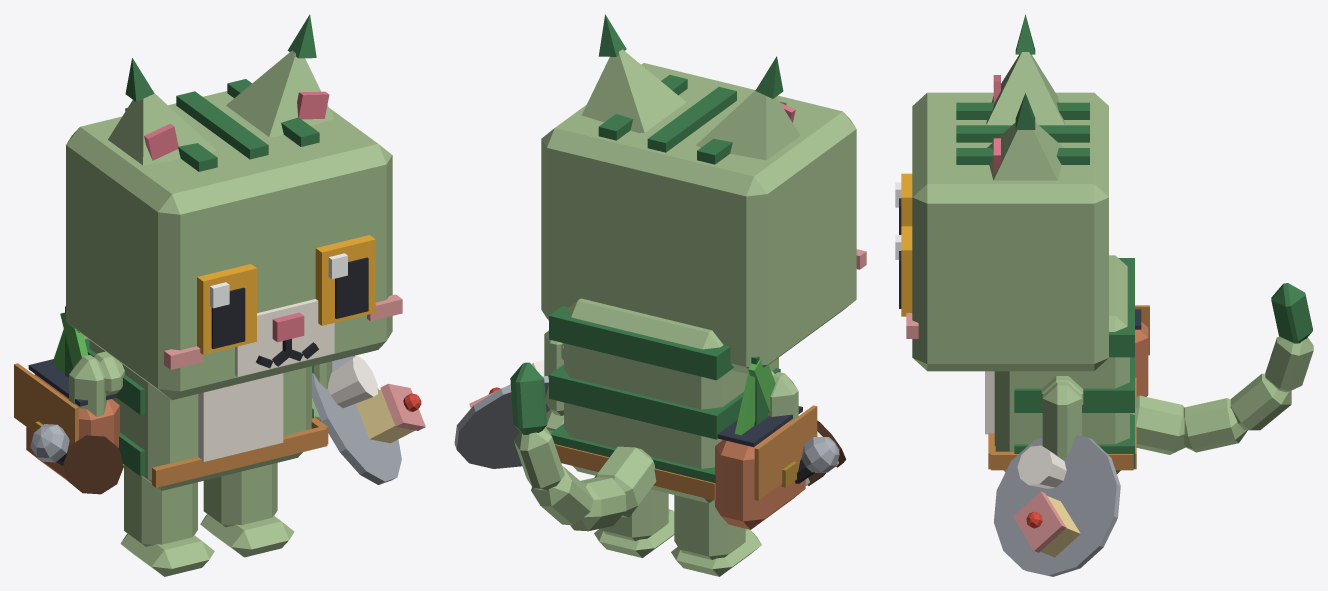
The model's file is CatCafe_Cat_Fern_Work.fbx.
3 renders of one model, left to right at view 1: azimuth 30°, elevation 25°; view 2: azimuth 150°, elevation 25°; view 3: azimuth 270°, elevation 25°, orthographic. The views are drawn at different scales.
Visible parts, largest first — view 1: CatCafe_Cat_Fern_Work_Head, CatCafe_Cat_Fern_Work_Body, CatCafe_Cat_Fern_Work_Held_Waiter, CatCafe_Cat_Fern_Work_LegB2, CatCafe_Cat_Fern_Work_LegB1, CatCafe_Cat_Fern_Work_EarL, CatCafe_Cat_Fern_Work_EarR, CatCafe_Cat_Fern_Work_Eye1, CatCafe_Cat_Fern_Work_Eye2, CatCafe_Cat_Fern_Work_Held_Barista, CatCafe_Cat_Fern_Work_LegF2, CatCafe_Cat_Fern_Work_Held_Entertainer; view 2: CatCafe_Cat_Fern_Work_Head, CatCafe_Cat_Fern_Work_Body, CatCafe_Cat_Fern_Work_Tail, CatCafe_Cat_Fern_Work_EarL, CatCafe_Cat_Fern_Work_LegB2, CatCafe_Cat_Fern_Work_EarR, CatCafe_Cat_Fern_Work_Held_Waiter, CatCafe_Cat_Fern_Work_LegB1, CatCafe_Cat_Fern_Work_Held_Entertainer, CatCafe_Cat_Fern_Work_LegF1, CatCafe_Cat_Fern_Work_LegF2; view 3: CatCafe_Cat_Fern_Work_Head, CatCafe_Cat_Fern_Work_Body, CatCafe_Cat_Fern_Work_Held_Waiter, CatCafe_Cat_Fern_Work_Tail, CatCafe_Cat_Fern_Work_EarR, CatCafe_Cat_Fern_Work_EarL, CatCafe_Cat_Fern_Work_LegF1, CatCafe_Cat_Fern_Work_Eye1, CatCafe_Cat_Fern_Work_Eye2.
Part boxes in pixels (bbox=[...]): CatCafe_Cat_Fern_Work_Head: bbox=[66, 79, 402, 400]; CatCafe_Cat_Fern_Work_Body: bbox=[14, 306, 328, 490]; CatCafe_Cat_Fern_Work_Held_Waiter: bbox=[312, 355, 425, 484]; CatCafe_Cat_Fern_Work_LegB2: bbox=[120, 464, 214, 576]; CatCafe_Cat_Fern_Work_LegB1: bbox=[200, 463, 294, 557]; CatCafe_Cat_Fern_Work_EarL: bbox=[226, 14, 334, 136]; CatCafe_Cat_Fern_Work_EarR: bbox=[108, 58, 215, 165]; CatCafe_Cat_Fern_Work_Eye1: bbox=[315, 235, 375, 325]; CatCafe_Cat_Fern_Work_Eye2: bbox=[197, 264, 256, 354]; CatCafe_Cat_Fern_Work_Held_Barista: bbox=[63, 435, 123, 494]; CatCafe_Cat_Fern_Work_LegF2: bbox=[69, 355, 107, 416]; CatCafe_Cat_Fern_Work_Held_Entertainer: bbox=[30, 424, 69, 465]; CatCafe_Cat_Fern_Work_Head: bbox=[541, 63, 866, 373]; CatCafe_Cat_Fern_Work_Body: bbox=[549, 298, 817, 529]; CatCafe_Cat_Fern_Work_Tail: bbox=[510, 362, 656, 531]; CatCafe_Cat_Fern_Work_EarL: bbox=[582, 14, 686, 132]; CatCafe_Cat_Fern_Work_LegB2: bbox=[671, 495, 761, 576]; CatCafe_Cat_Fern_Work_EarR: bbox=[696, 56, 800, 160]; CatCafe_Cat_Fern_Work_Held_Waiter: bbox=[454, 360, 549, 468]; CatCafe_Cat_Fern_Work_LegB1: bbox=[594, 489, 674, 557]; CatCafe_Cat_Fern_Work_Held_Entertainer: bbox=[795, 437, 839, 483]; CatCafe_Cat_Fern_Work_LegF1: bbox=[544, 330, 563, 433]; CatCafe_Cat_Fern_Work_LegF2: bbox=[768, 372, 798, 421]; CatCafe_Cat_Fern_Work_Head: bbox=[906, 92, 1108, 371]; CatCafe_Cat_Fern_Work_Body: bbox=[985, 255, 1149, 473]; CatCafe_Cat_Fern_Work_Held_Waiter: bbox=[994, 435, 1120, 576]; CatCafe_Cat_Fern_Work_Tail: bbox=[1130, 283, 1313, 454]; CatCafe_Cat_Fern_Work_EarR: bbox=[986, 14, 1064, 125]; CatCafe_Cat_Fern_Work_EarL: bbox=[987, 93, 1063, 180]; CatCafe_Cat_Fern_Work_LegF1: bbox=[1042, 382, 1081, 460]; CatCafe_Cat_Fern_Work_Eye1: bbox=[895, 226, 912, 316]; CatCafe_Cat_Fern_Work_Eye2: bbox=[895, 173, 912, 234].
Bounding box in the file's own units: 1.53 × 2.03 × 1.62.
1 material, 1 textured.
